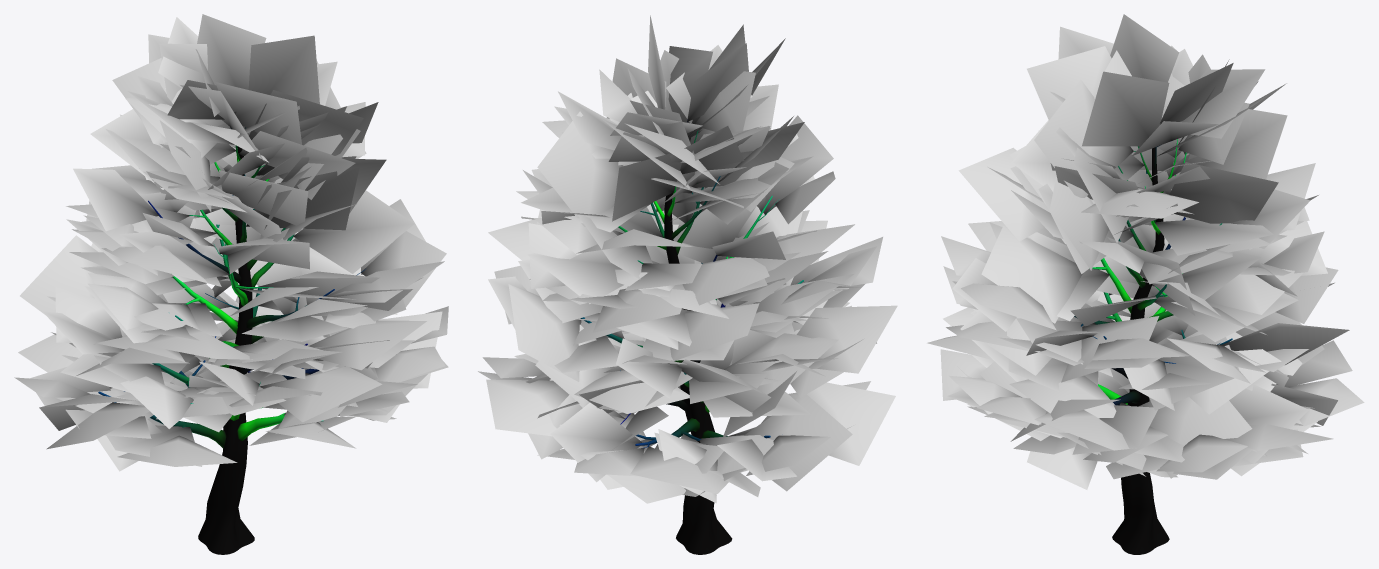
The model's file is plane_tree_03.fbx.
3 renders of one model, left to right at view 1: azimuth 30°, elevation 25°; view 2: azimuth 150°, elevation 25°; view 3: azimuth 270°, elevation 25°, orthographic.
Visible parts, largest first — view 1: plane_tree_03_LOD0; view 2: plane_tree_03_LOD0; view 3: plane_tree_03_LOD0.
Boxes of the visible parts, x1,y1,x2,y2 form: plane_tree_03_LOD0: [14, 14, 448, 554]; plane_tree_03_LOD0: [478, 15, 897, 554]; plane_tree_03_LOD0: [927, 14, 1364, 554].
Size of what is drawn, in the model's own units: 1710 by 2181 by 1699.
